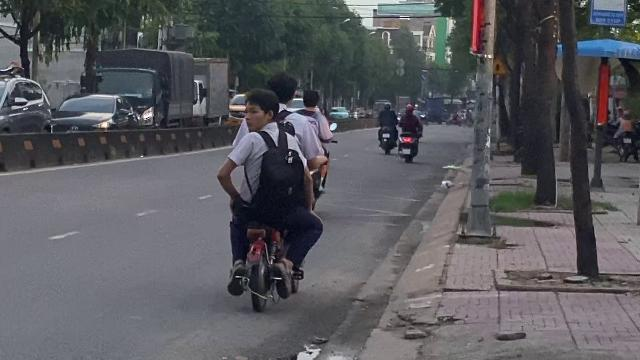motorcyclist: (214, 73, 336, 318)
nohelmet: (242, 88, 280, 132), (265, 73, 297, 107)
